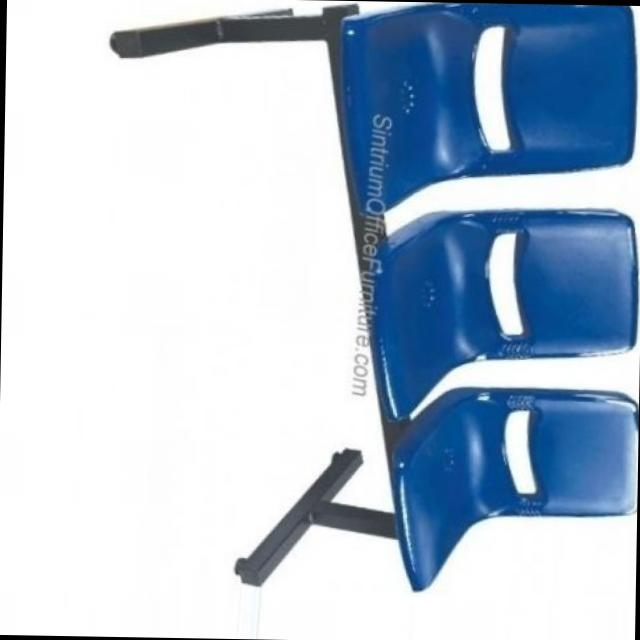Chair: (99, 0, 640, 595)
